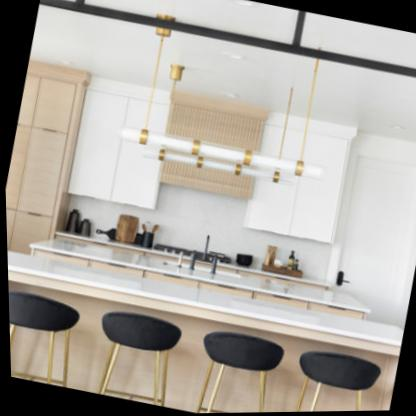Cabinet: (64, 71, 355, 246)
Dining Table: (6, 242, 401, 416)
